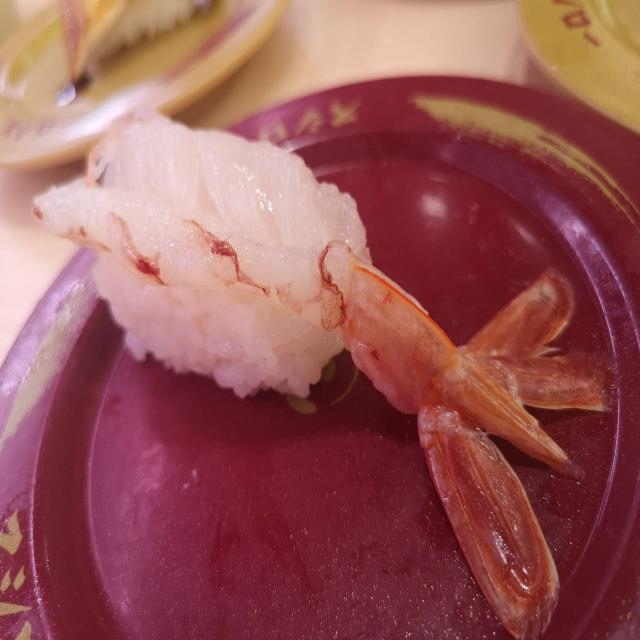jangold: (0, 0, 269, 164), (483, 0, 640, 124)
janred: (15, 72, 640, 640)
